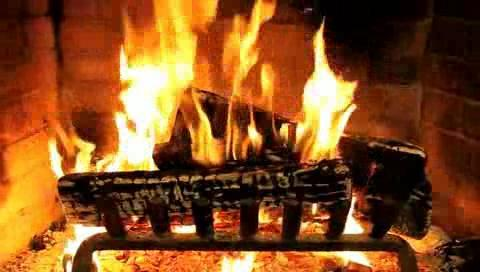fire: (119, 0, 354, 165), (61, 219, 116, 272), (50, 133, 96, 175), (347, 191, 369, 272)
